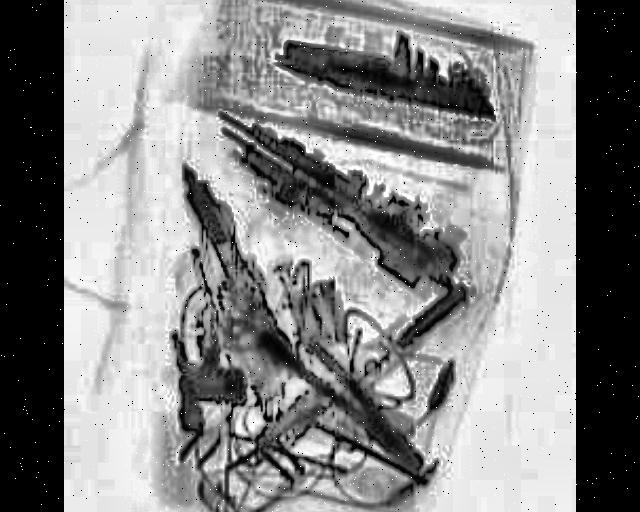Pliers: (254, 298, 428, 480)
